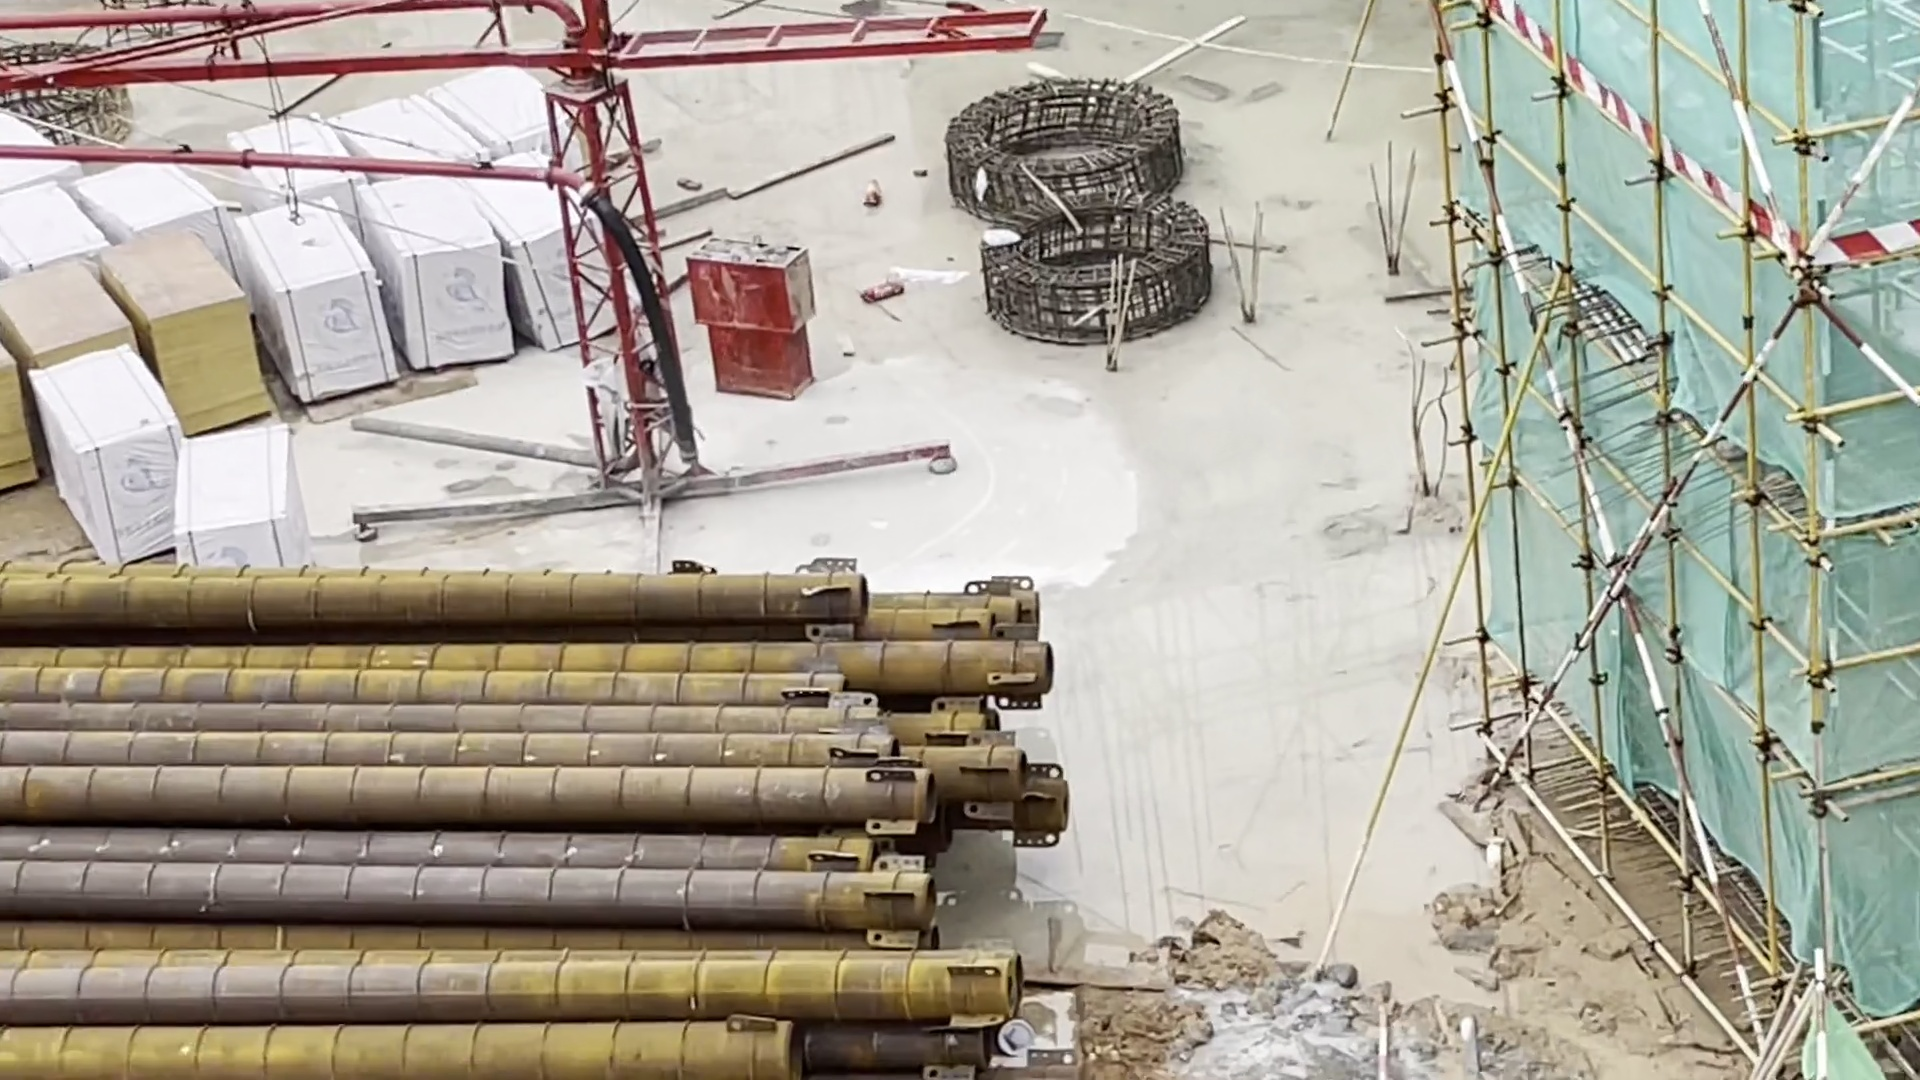board: (1, 237, 302, 505)
